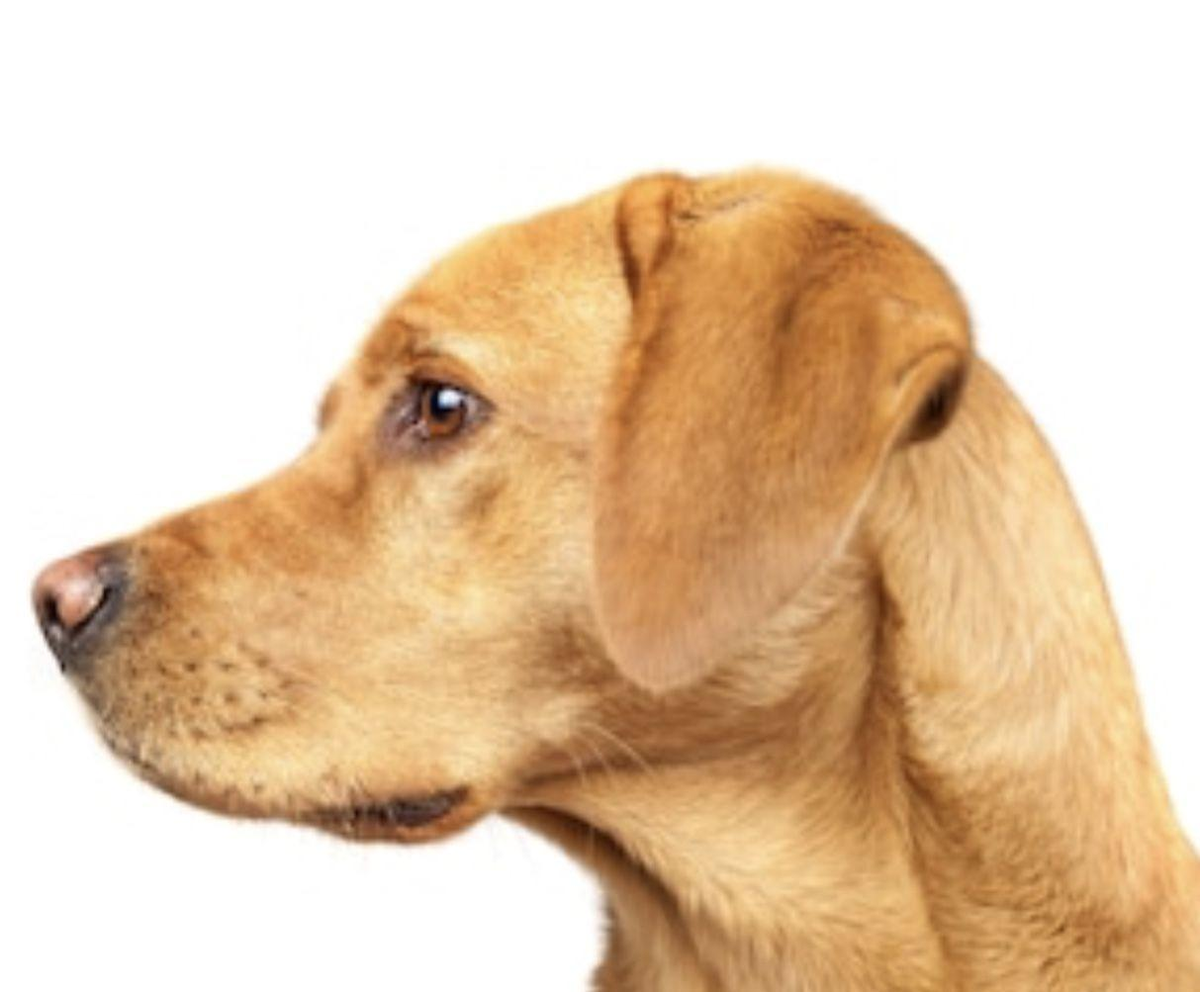adult_dog: (26, 156, 1200, 992)
